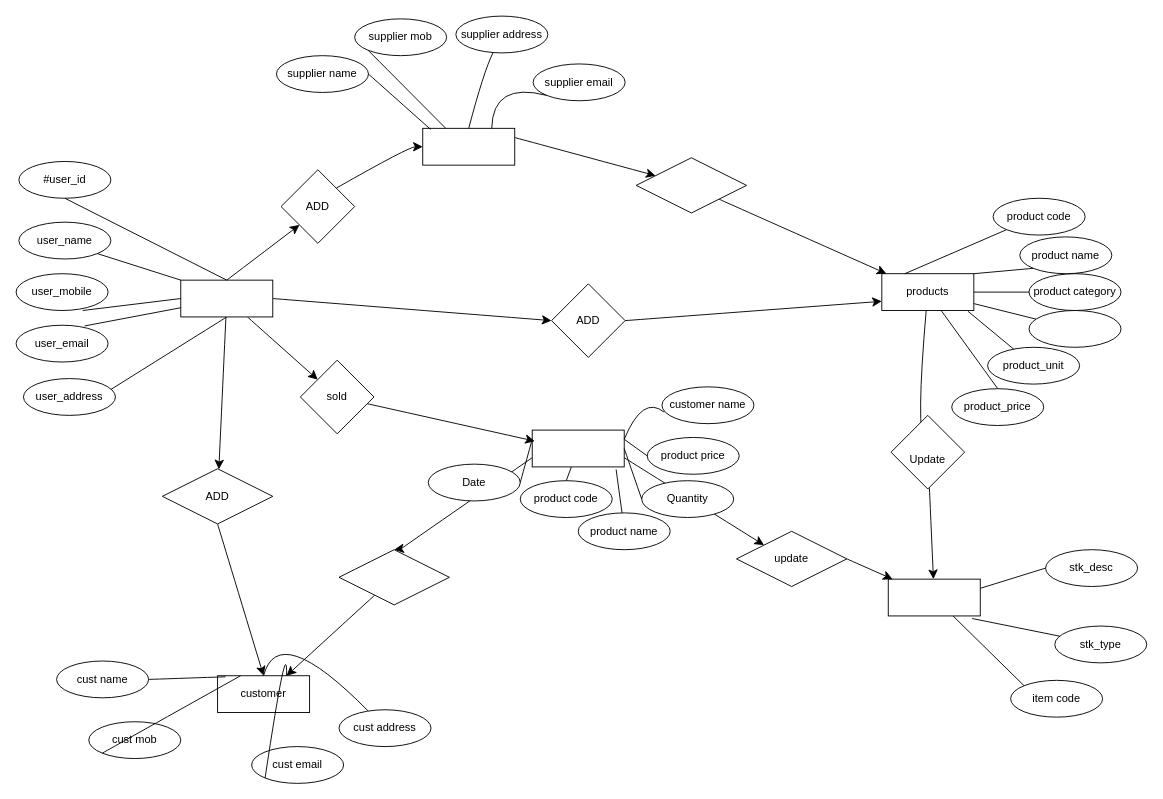
Some shapes in this 1163 by 799 pixel diagram are drawn without their labels. The centre of each missing label's shape, as x and y in pixels:
"ADMIN" goes at (x=226, y=298).
"product_stock" goes at (x=1074, y=328).
"S ales" goes at (x=393, y=577).
"Sales" goes at (x=577, y=448).
"stock" goes at (x=933, y=597).
"supplier" goes at (x=468, y=146).
"Supplying" goes at (x=691, y=185).
